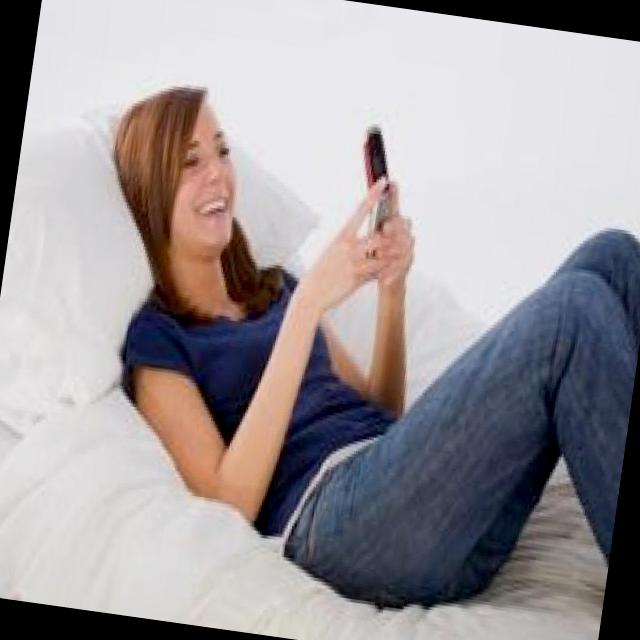no_vest: (90, 264, 420, 570)
